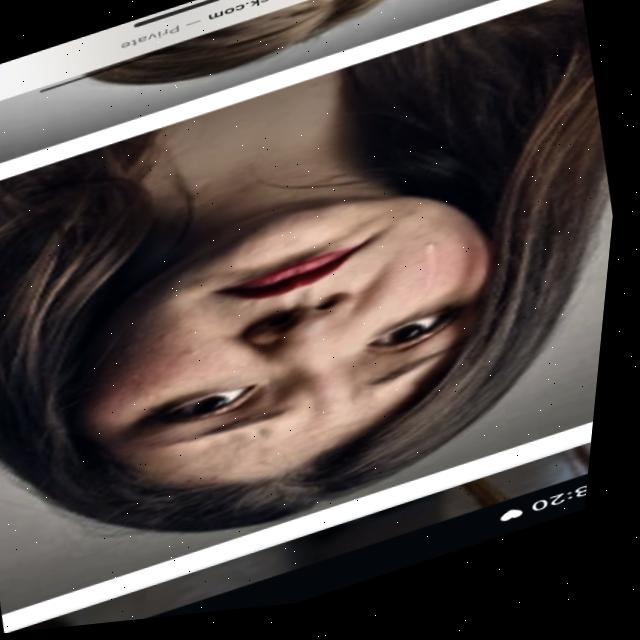sad: (42, 142, 574, 555)
